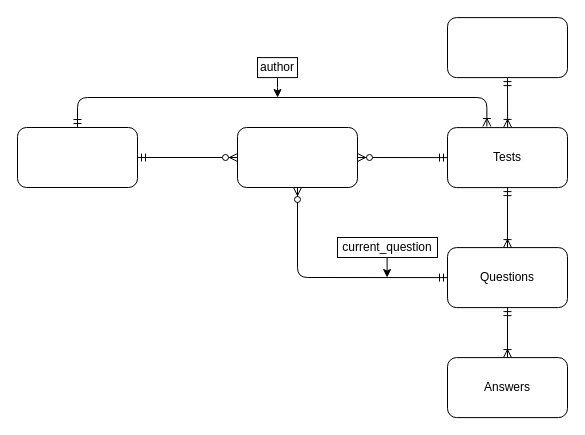
Image size: 585x435. Some labels were removed from this diagram. The shapes that lost their labels are listed below. From the top down, each one's box as (x1, y1, x2, y2) in pixels, then its label:
(446, 17, 568, 78): Categories
(16, 126, 138, 188): Users
(236, 126, 358, 188): TestPassages
